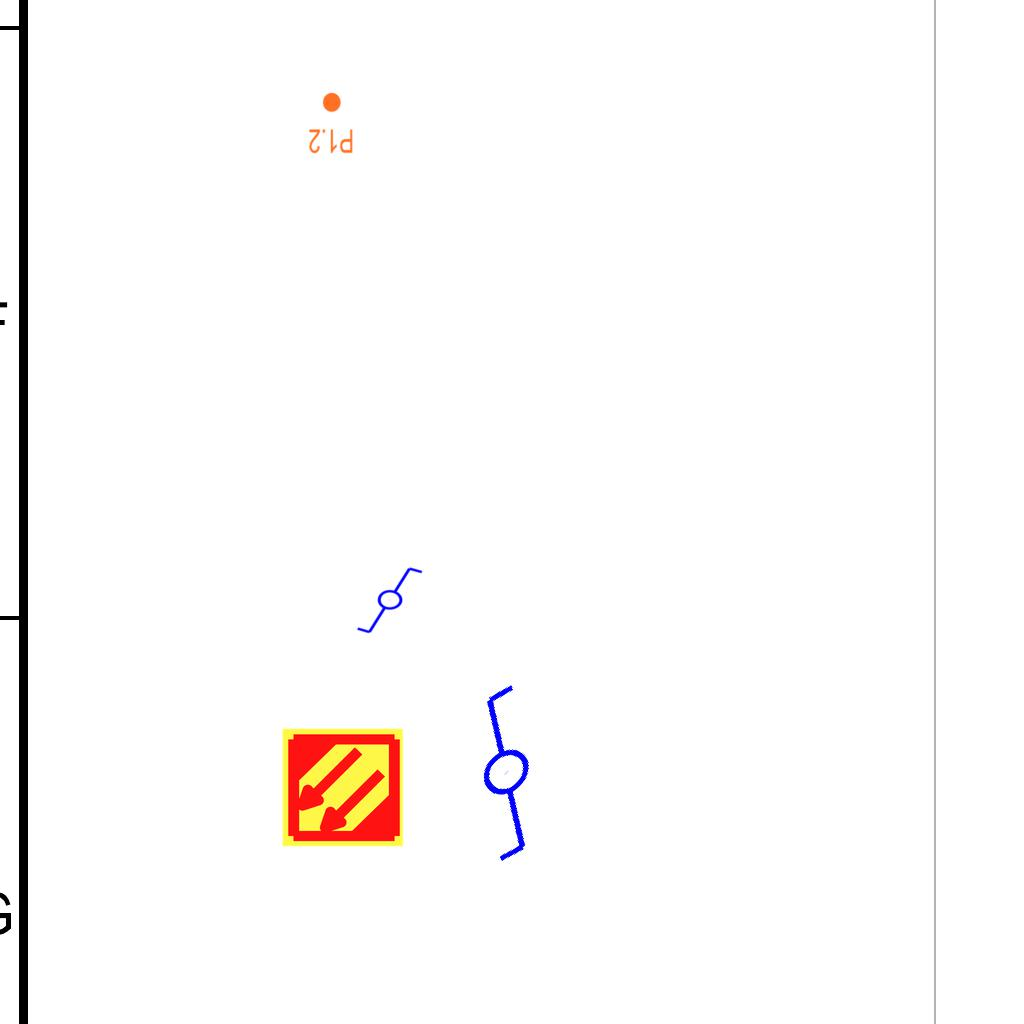ASR_Ansaugrauchmelder: (280, 725, 405, 850)
Downlight_LED_Einbauleuchten_Flur: (308, 91, 354, 155)
Wechselschalter: (407, 661, 620, 875), (355, 565, 433, 637)
